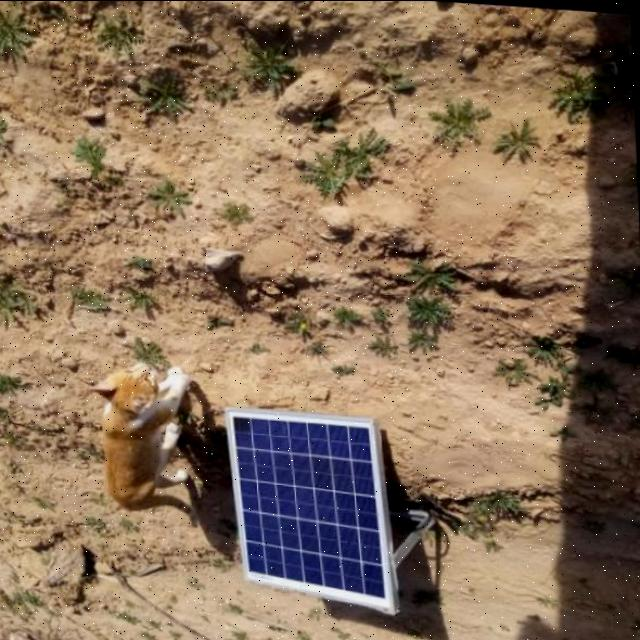Normal Solar Panel: (225, 402, 392, 606)
